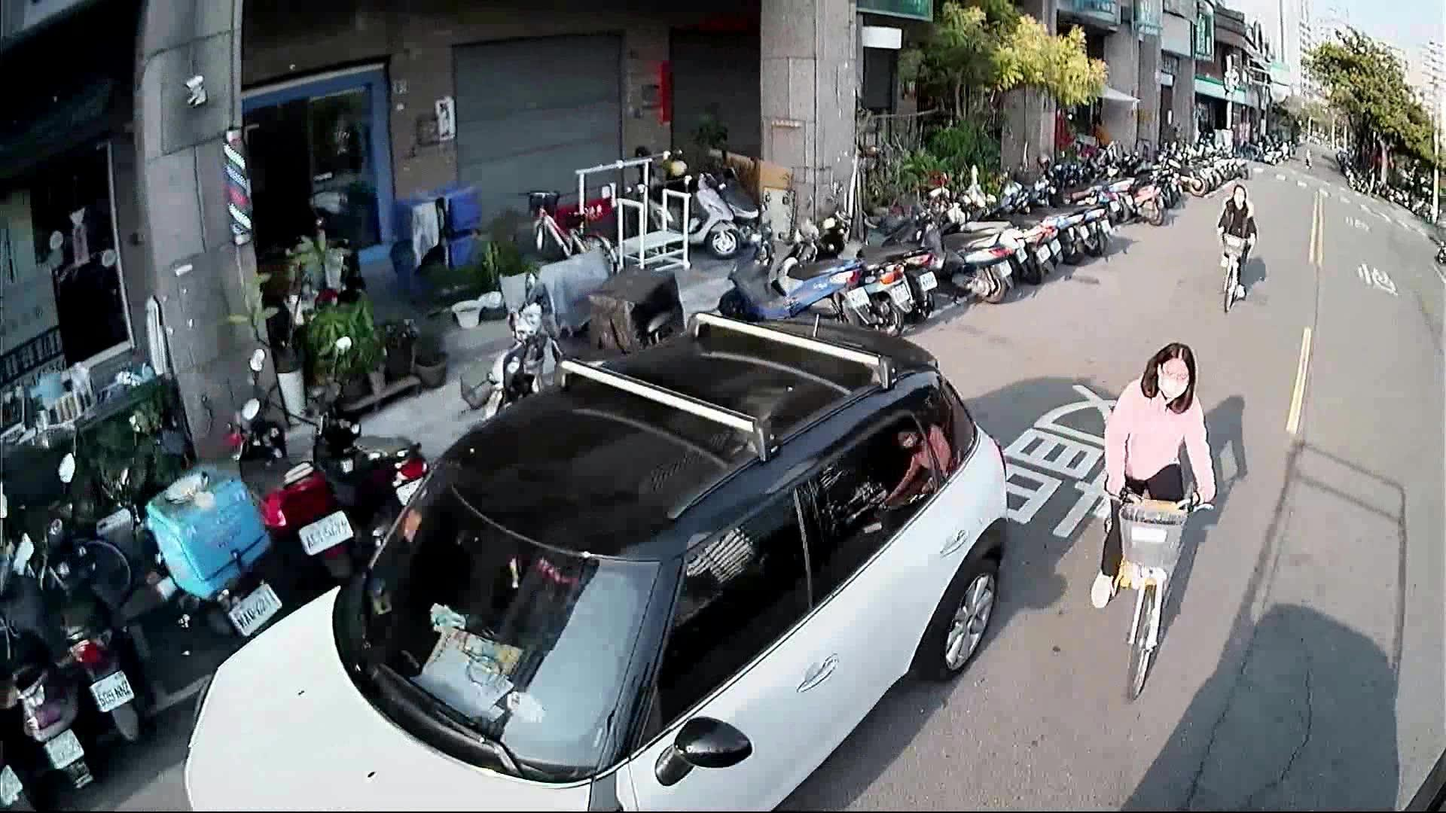person: (1086, 332, 1221, 619), (1213, 178, 1259, 301)
